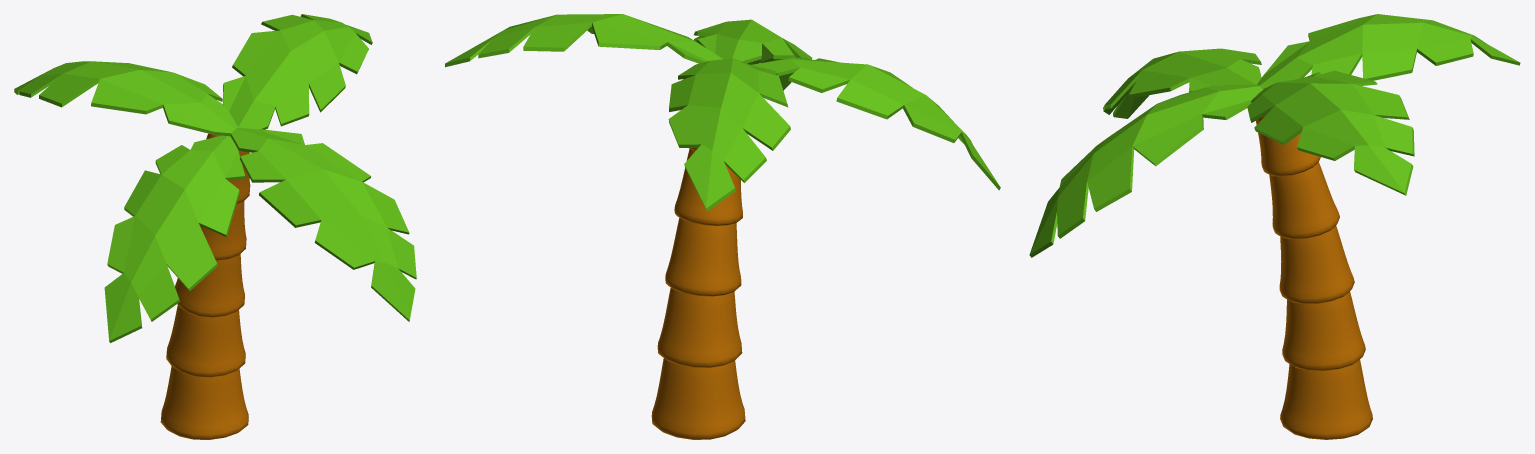
File: Palm.fbx
The picture shows the model from 3 angles, left to right: view 1: azimuth 30°, elevation 25°; view 2: azimuth 150°, elevation 25°; view 3: azimuth 270°, elevation 25°; orthographic projection. The views are drawn at different scales.
Parts seen in each view (by area): view 1: Plane, Plane.003, Cube, Plane.002, Plane.001; view 2: Cube, Plane.001, Plane, Plane.002, Plane.003; view 3: Cube, Plane.002, Plane.003, Plane.001, Plane.
Boxes of the visible parts, bbox=[...] form: Plane: bbox=[104, 135, 245, 342]; Plane.003: bbox=[230, 127, 416, 321]; Cube: bbox=[160, 133, 250, 439]; Plane.002: bbox=[223, 14, 372, 129]; Plane.001: bbox=[14, 61, 238, 136]; Cube: bbox=[651, 148, 745, 439]; Plane.001: bbox=[668, 58, 790, 211]; Plane: bbox=[751, 57, 1000, 190]; Plane.002: bbox=[445, 14, 722, 67]; Plane.003: bbox=[694, 19, 812, 90]; Cube: bbox=[1256, 115, 1372, 439]; Plane.002: bbox=[1247, 70, 1414, 195]; Plane.003: bbox=[1029, 84, 1263, 257]; Plane.001: bbox=[1257, 14, 1520, 88]; Plane: bbox=[1103, 48, 1261, 118].
Size of the model in its own units: 407 by 363 by 419.
